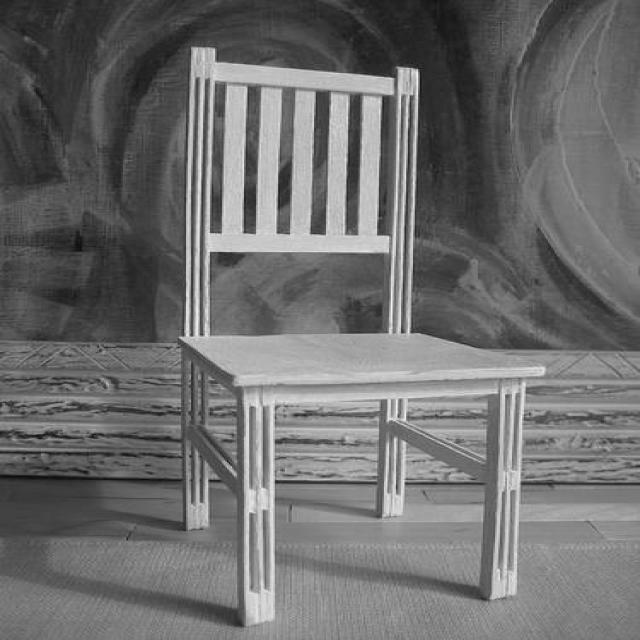chair: (162, 45, 546, 618)
